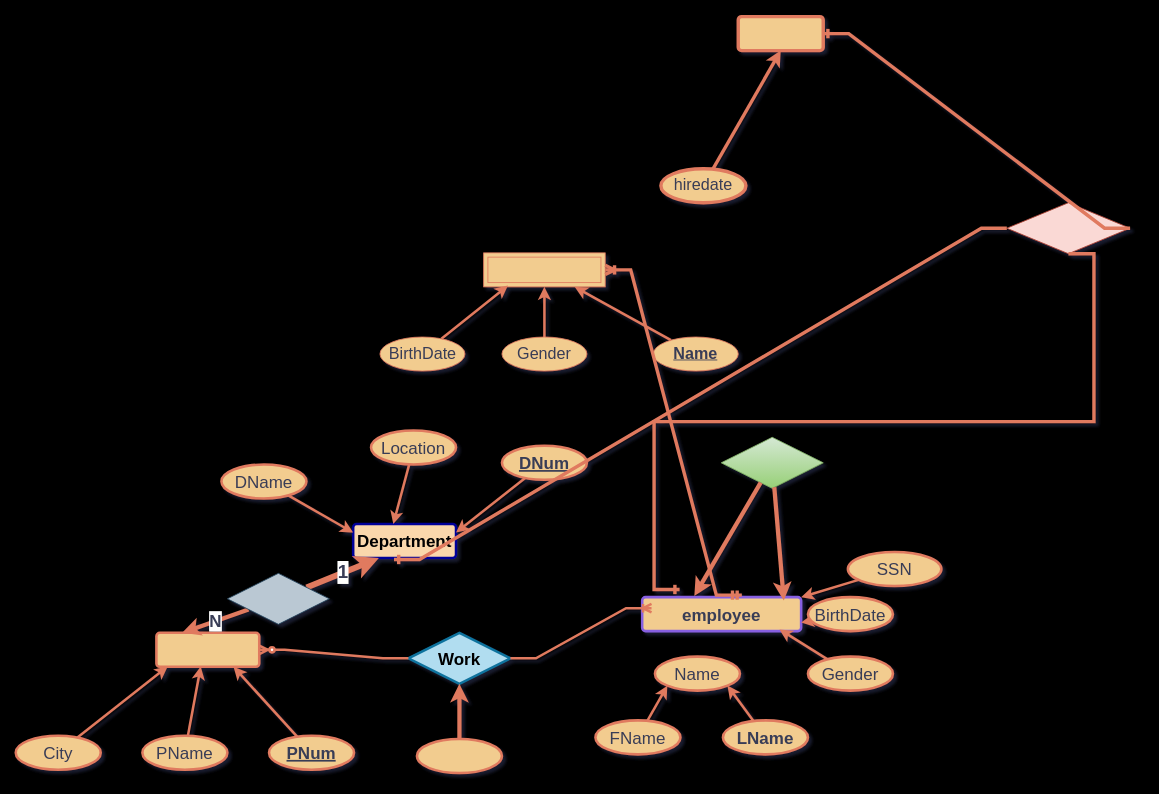
This 1159x794 diagram has some shape labels left out. Each missing label, with the centre of its shape:
"dependent" goes at [544,269].
"have" goes at [278,598].
"mange" goes at [780,33].
"manger" goes at [1068,228].
"project" goes at [207,649].
"super" goes at [771,462].
"Work_hr" goes at [459,755].
